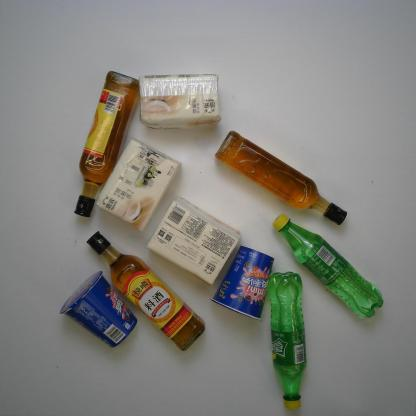Dessert: (57, 269, 137, 350), (209, 245, 276, 323)
Drink: (271, 211, 384, 325), (265, 269, 309, 413)
Seasoner: (84, 230, 206, 357), (213, 128, 351, 227), (73, 65, 142, 221)
Tissue: (142, 197, 242, 290), (94, 136, 182, 233), (136, 72, 223, 131)
